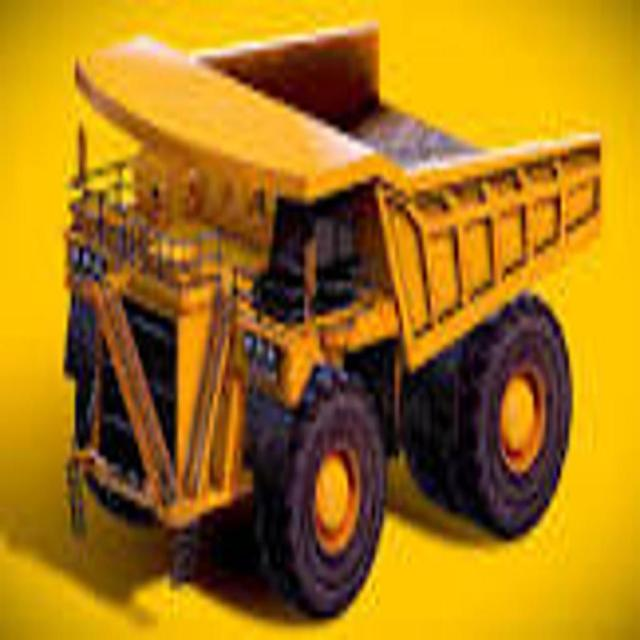dump_truck: (67, 26, 605, 612)
